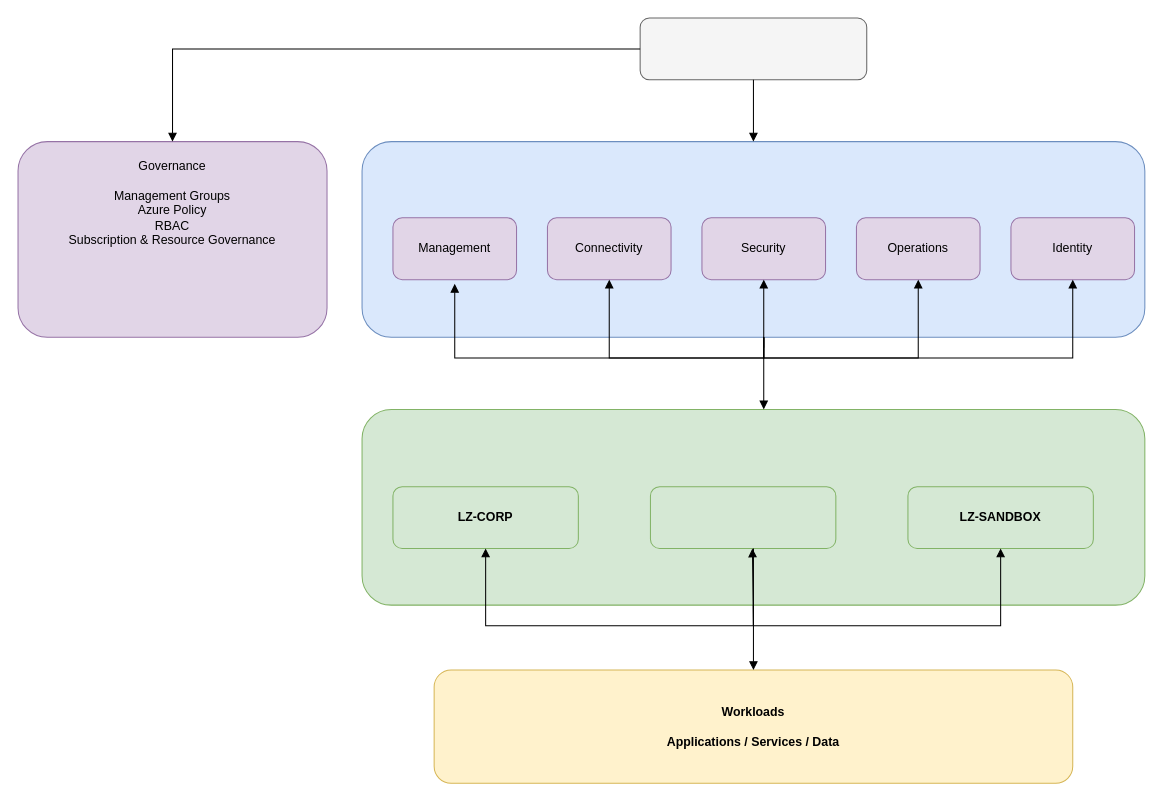
Image size: 1163x801. Some labels were removed from this diagram. Each missing label, with the box of its shape:
Azure Tenant: (639, 17, 867, 80)
Landing Zones: (361, 408, 1145, 605)
LZ-ONLINE: (649, 486, 836, 548)
Platform Foundation: (361, 141, 1145, 337)
